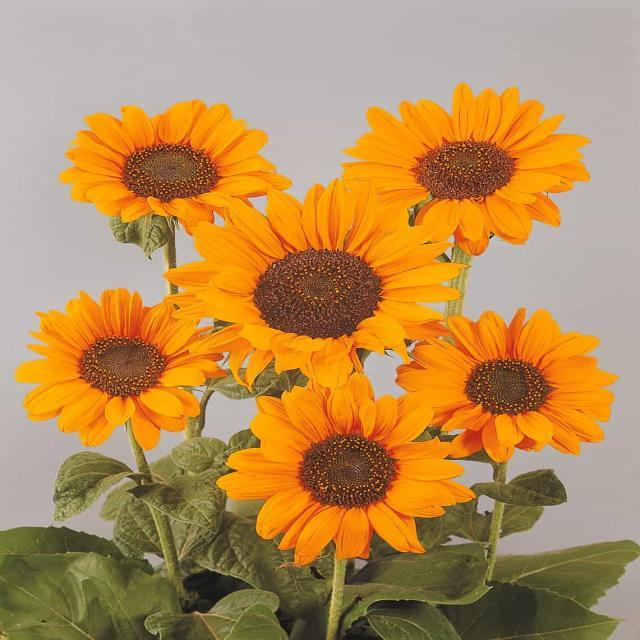sunflower: (162, 177, 470, 390), (215, 373, 475, 568), (339, 81, 592, 256), (394, 306, 618, 464), (14, 286, 229, 450), (58, 98, 292, 234)
